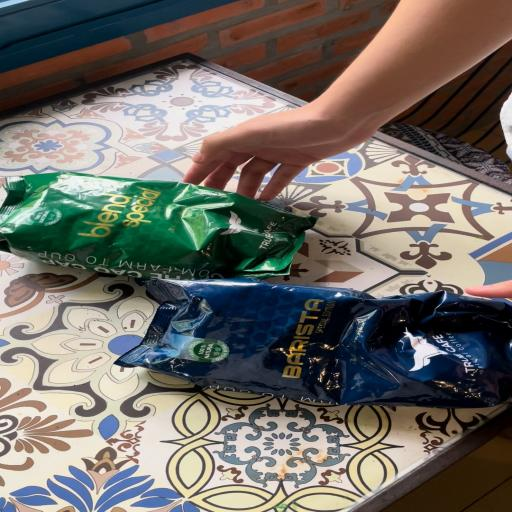cafe_hat: (115, 279, 512, 408)
cafe_xay: (0, 172, 314, 279)
